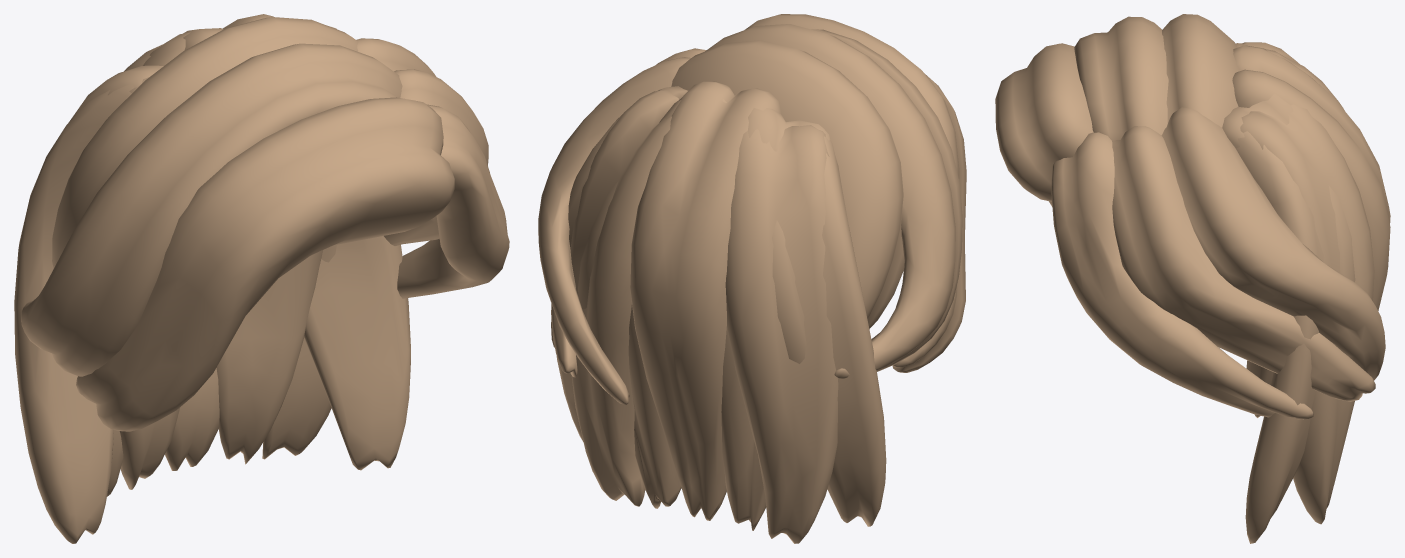
Rendered from hair-10-c26131d3.glb.
3 renders of one model, left to right at view 1: azimuth 30°, elevation 25°; view 2: azimuth 150°, elevation 25°; view 3: azimuth 270°, elevation 25°, orthographic. The views are drawn at different scales.
Parts seen in each view (by area): view 1: Geo_White_Older_Female_Hair_10.001; view 2: Geo_White_Older_Female_Hair_10.001; view 3: Geo_White_Older_Female_Hair_10.001.
Boxes of the visible parts, bbox=[...] form: Geo_White_Older_Female_Hair_10.001: bbox=[14, 14, 509, 543]; Geo_White_Older_Female_Hair_10.001: bbox=[538, 14, 966, 543]; Geo_White_Older_Female_Hair_10.001: bbox=[995, 14, 1390, 543].
Bounding box in the file's own units: 1.97 × 2.19 × 1.76.
